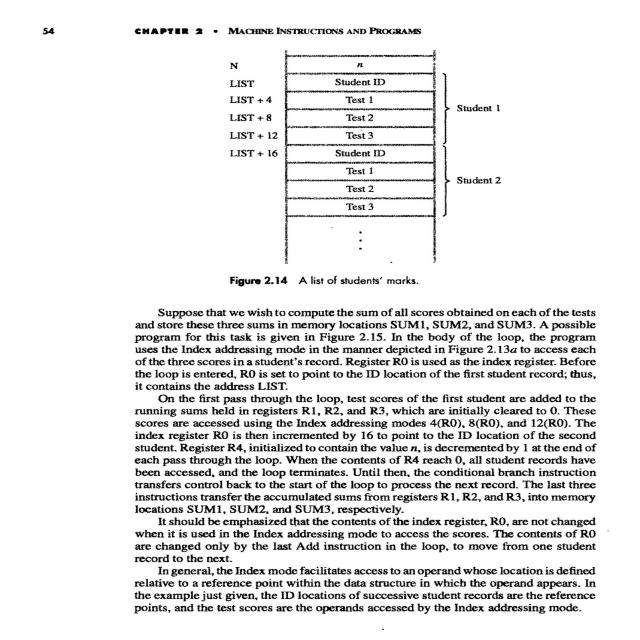diagram: (196, 42, 548, 294)
